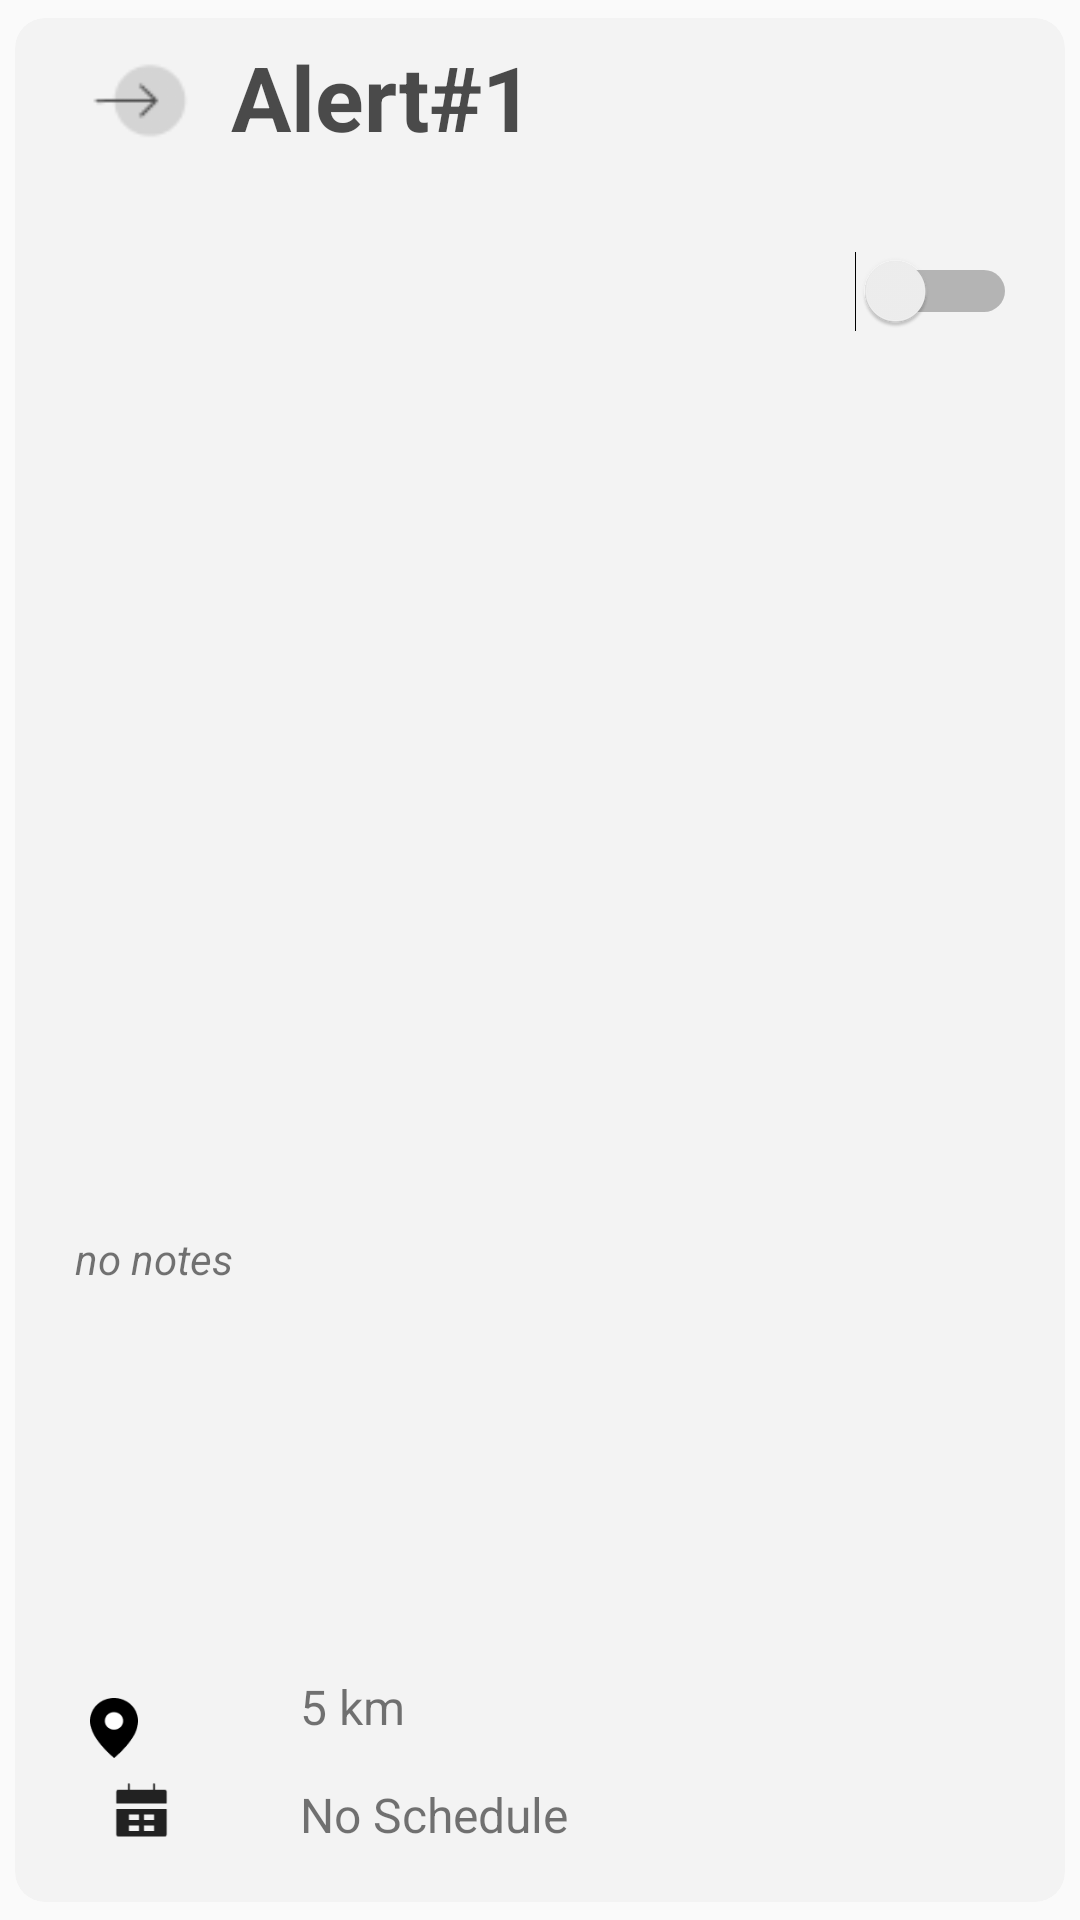

Screen size 1080w x 1920h. Icon name, then its center in pixels as (x,y):
calendar: (141,1810)
get in: (139,100)
pinalerts: (114,1728)
